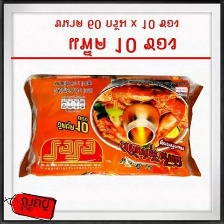snack: (11, 69, 208, 184)
